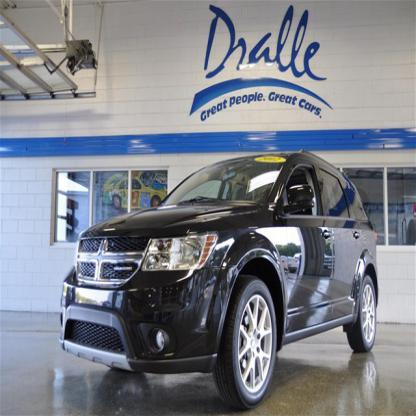Vehicle: (60, 155, 380, 407)
